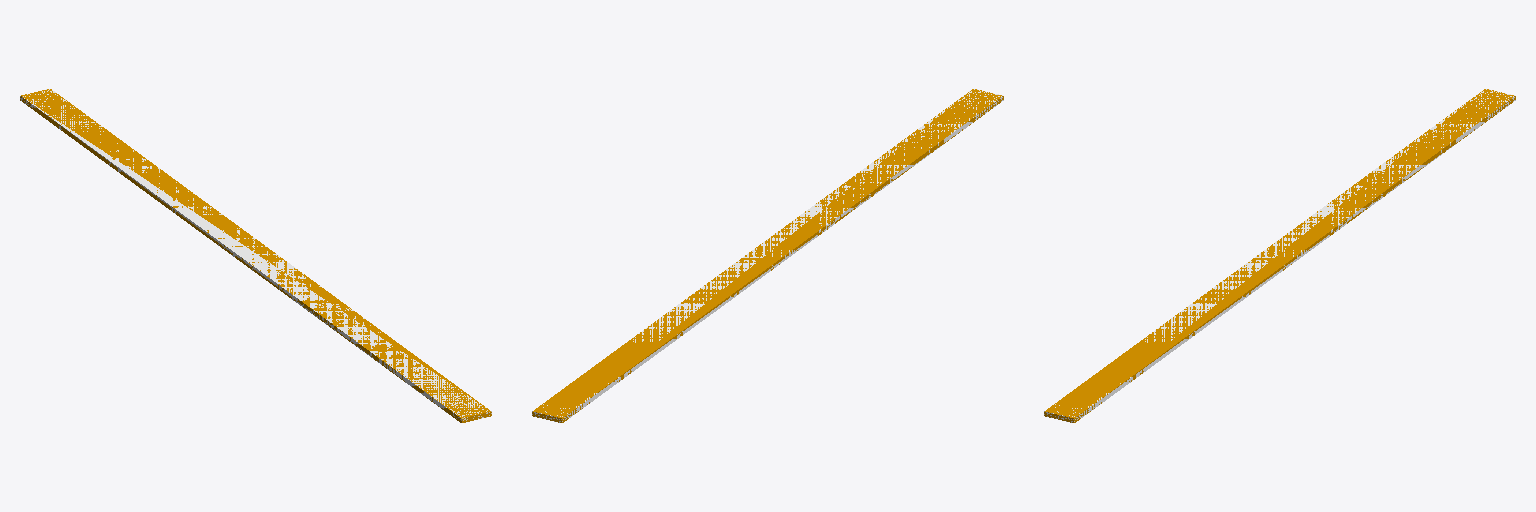
robot.urdf — my_object:
<?xml version="1.0" ?> 
<robot name="my_object" static="true">
  <link name="base_link">
  <inertial>
    <mass value="1.0" />
    <origin xyz="0 0 0.0" />
    <inertia ixx="1.0" ixy="0.0" ixz="0.0" iyy="1.0" iyz="0.0" izz="1.0"/>
  </inertial>
  <visual>
   <origin xyz="0 0 0.0" rpy="0 0 0" />
   <geometry>
     <mesh filename="package://cob_gazebo_objects/Media/models/door_sill.dae"/>
   </geometry>
  </visual>
  <collision>
   <origin xyz="0 0 0" rpy="0 0 0" />
   <geometry>
     <box size="0 0 0" />
   </geometry>
  </collision>     
  </link>

<gazebo>
	<static>true</static>
</gazebo>
</robot>

--- Facts derived from the render (not from the file) ---
3 views of the same robot in one strip: view 1: azimuth 30°, elevation 25°; view 2: azimuth 150°, elevation 25°; view 3: azimuth 330°, elevation 25° (orthographic).
Model my_object with 1 links and 0 joints (none), rooted at base_link, posed every joint at zero.
Links seen in each view (by area): view 1: base_link; view 2: base_link; view 3: base_link.
Link boxes in pixels (bbox=[...]): base_link: bbox=[20, 89, 491, 422]; base_link: bbox=[532, 89, 1003, 422]; base_link: bbox=[1044, 89, 1515, 422].
Bounding box of the posed robot: 0.0603 × 1.54 × 0.0096 m (x, y, z).
Meshes: 1 distinct files referenced, 1 mesh visuals loaded (1 Collada DAE).